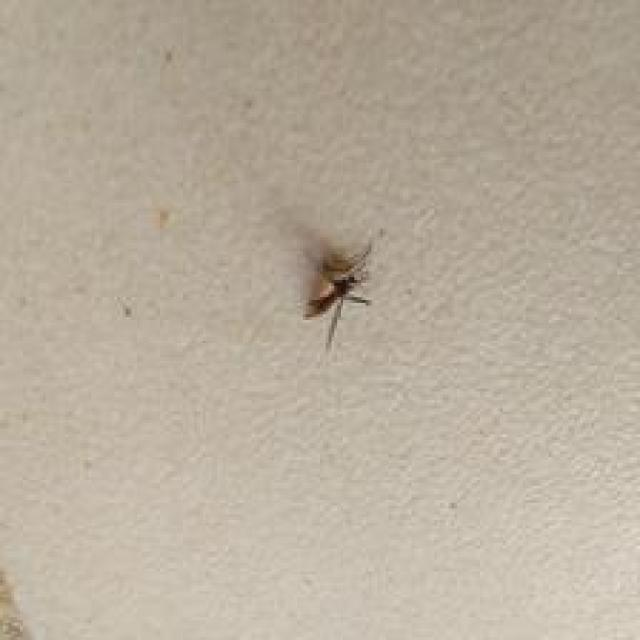Aedes albopictus: (300, 239, 374, 350)
